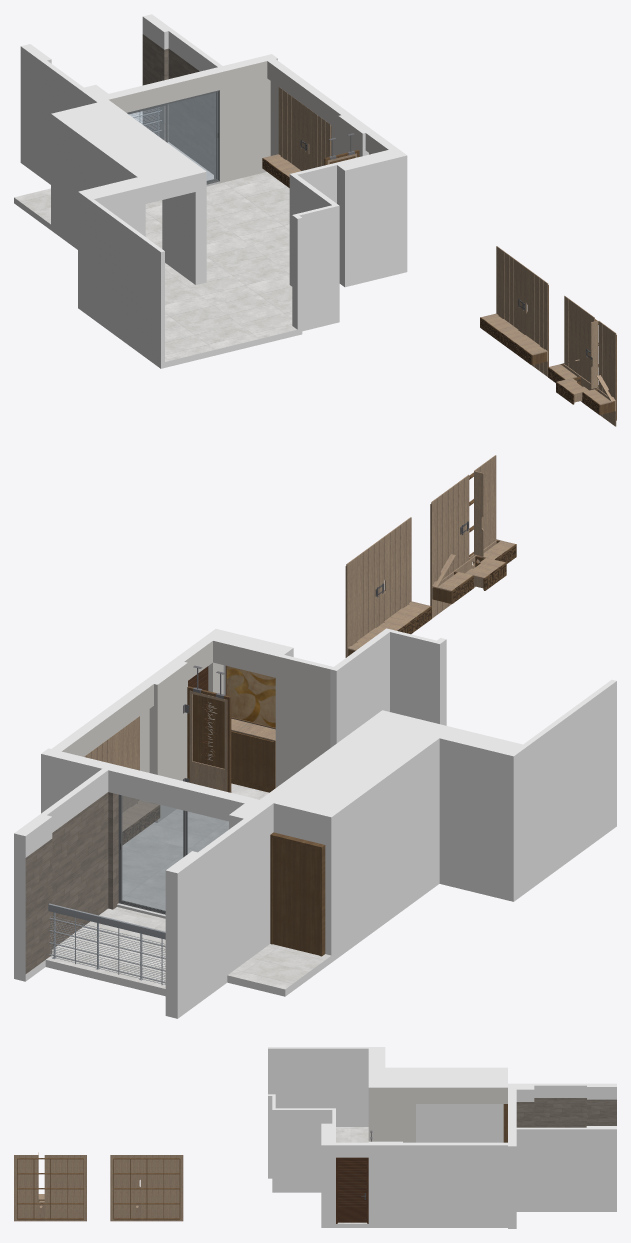
3 views of the same model, one above another, from view 1: azimuth 30°, elevation 25°; view 2: azimuth 150°, elevation 25°; view 3: azimuth 270°, elevation 25° (orthographic). The views are drawn at different scales.
Visible parts, largest first — view 1: Geom3D_ergqergerg, Geom3D (×5), Geom3D_Glass (×2), Geom3D_gahergerg; view 2: Geom3D_ergqergerg, Geom3D (×8), Geom3D_Glass (×4), Geom3D_ (×2), Geom3D_gahergerg, Geom3D_Bottom Rail; view 3: Geom3D_ergqergerg, Geom3D (×28), Geom3D_ (×2), Geom3D_gahergerg.
Part boxes in pixels (left/top/right/bottom): Geom3D_ergqergerg: left=20, top=14, right=407, bottom=362; Geom3D (×5): left=14, top=17, right=598, bottom=389; Geom3D_Glass (×2): left=129, top=92, right=216, bottom=180; Geom3D_gahergerg: left=14, top=157, right=407, bottom=368; Geom3D_ergqergerg: left=14, top=628, right=616, bottom=1011; Geom3D (×8): left=25, top=471, right=483, bottom=989; Geom3D_Glass (×4): left=122, top=732, right=273, bottom=910; Geom3D_ (×2): left=270, top=832, right=325, bottom=956; Geom3D_gahergerg: left=14, top=819, right=616, bottom=1018; Geom3D_Bottom Rail: left=192, top=761, right=224, bottom=791; Geom3D_ergqergerg: left=268, top=1047, right=616, bottom=1224; Geom3D (×28): left=14, top=1085, right=616, bottom=1223; Geom3D_ (×2): left=17, top=1158, right=180, bottom=1219; Geom3D_gahergerg: left=268, top=1174, right=616, bottom=1228.
Bounding box in the file's own units: 7.83 × 3.05 × 20.14.
30 materials, 10 textured.
